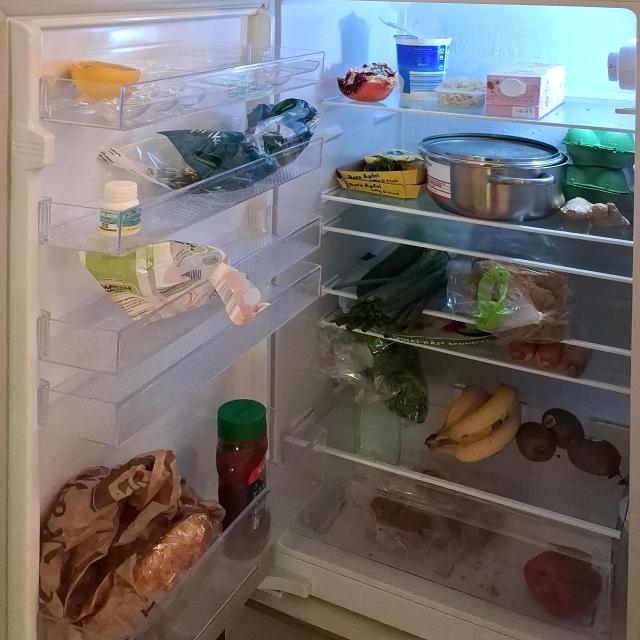Banana: (425, 381, 521, 462)
Cheese: (58, 58, 147, 103), (437, 76, 486, 109)
Eggs: (563, 126, 636, 198)
Ginger: (559, 197, 631, 227)
Medicine: (94, 176, 147, 237)
Milk: (486, 62, 567, 118)
Paper box: (336, 148, 423, 200)
Plastic bag: (104, 96, 319, 198), (87, 249, 270, 323)
Pot: (418, 131, 565, 220)
Spring onion: (329, 226, 443, 331)
Vegetable: (318, 332, 428, 424), (373, 472, 497, 552)
Yogurt: (394, 34, 450, 100)
bell pepper: (524, 545, 616, 620)
bread: (36, 448, 203, 625), (457, 235, 580, 337)
ketchup: (210, 398, 274, 576)
kiwi: (515, 406, 625, 477)
pomogranate: (337, 60, 398, 103)
